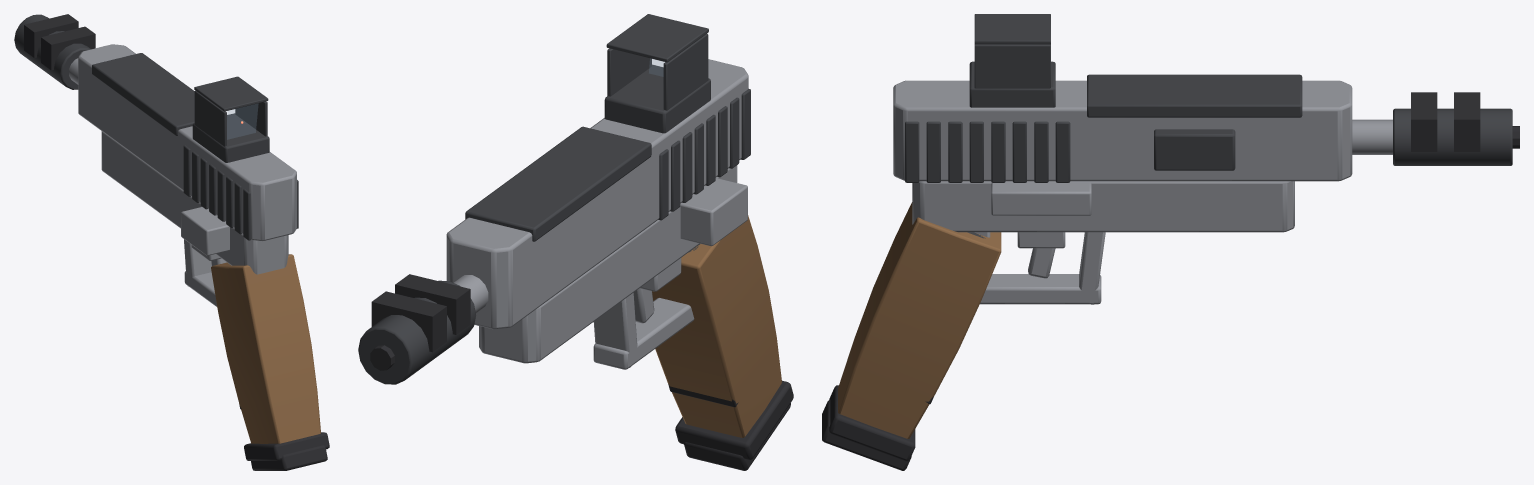
The model's file is pistola_45.glb.
The picture shows the model from 3 angles, left to right: view 1: azimuth 30°, elevation 25°; view 2: azimuth 150°, elevation 25°; view 3: azimuth 270°, elevation 25°; orthographic projection. The views are drawn at different scales.
Visible parts, largest first — view 1: pistola_45, Cargador, Cristal; view 2: pistola_45, Cargador; view 3: pistola_45, Cargador.
Boxes of the visible parts, bbox=[...] form: pistola_45: bbox=[14, 14, 329, 460]; Cargador: bbox=[251, 445, 327, 470]; Cristal: bbox=[227, 104, 258, 139]; pistola_45: bbox=[358, 14, 793, 460]; Cargador: bbox=[684, 244, 790, 470]; pistola_45: bbox=[829, 14, 1519, 461]; Cargador: bbox=[822, 232, 985, 470].
Bounding box in the file's own units: 0.051 × 0.199 × 0.2917.
